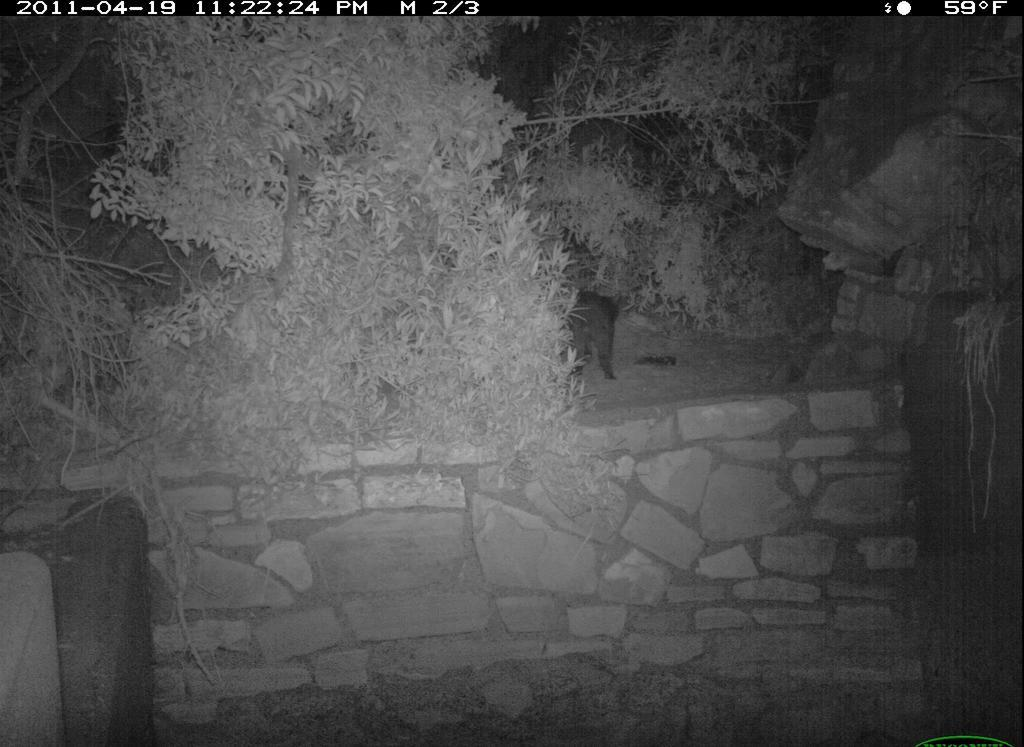cat: (552, 277, 623, 385)
